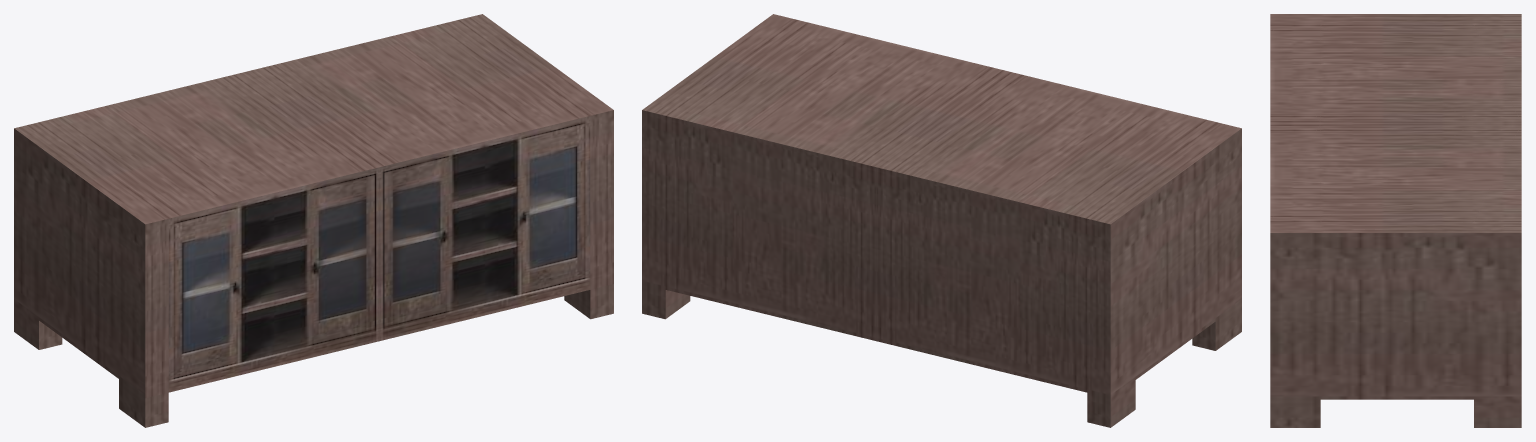
The model's file is TVStand.fbx_Scene.fbx.
The picture shows the model from 3 angles, left to right: view 1: azimuth 30°, elevation 25°; view 2: azimuth 150°, elevation 25°; view 3: azimuth 270°, elevation 25°; orthographic projection. The views are drawn at different scales.
Visible parts, largest first — view 1: TvStand; view 2: TvStand; view 3: TvStand.
Boxes of the visible parts, x1=… form: TvStand: x1=14, y1=14, x2=613, y2=427; TvStand: x1=642, y1=14, x2=1241, y2=427; TvStand: x1=1270, y1=14, x2=1521, y2=427.
Bounding box in the file's own units: 185 × 77 × 90.
2 materials, 2 textured.
